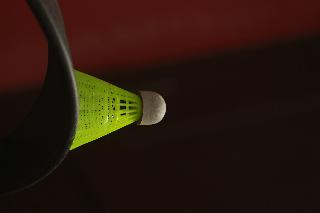shuttlecock: (74, 68, 164, 149)
